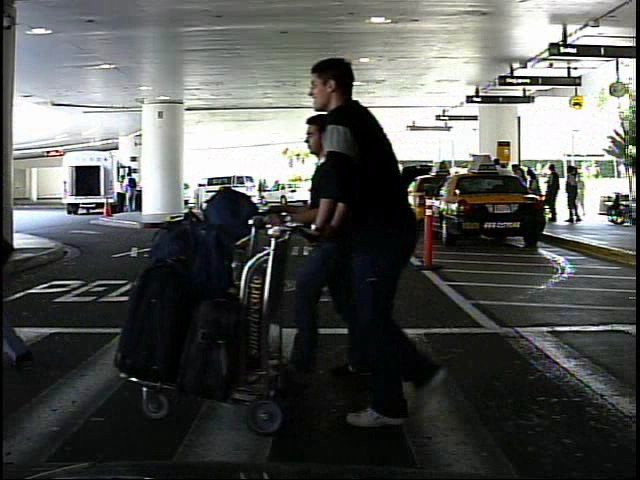person: (308, 48, 489, 427), (298, 112, 371, 385), (577, 172, 596, 218), (114, 172, 129, 214)
